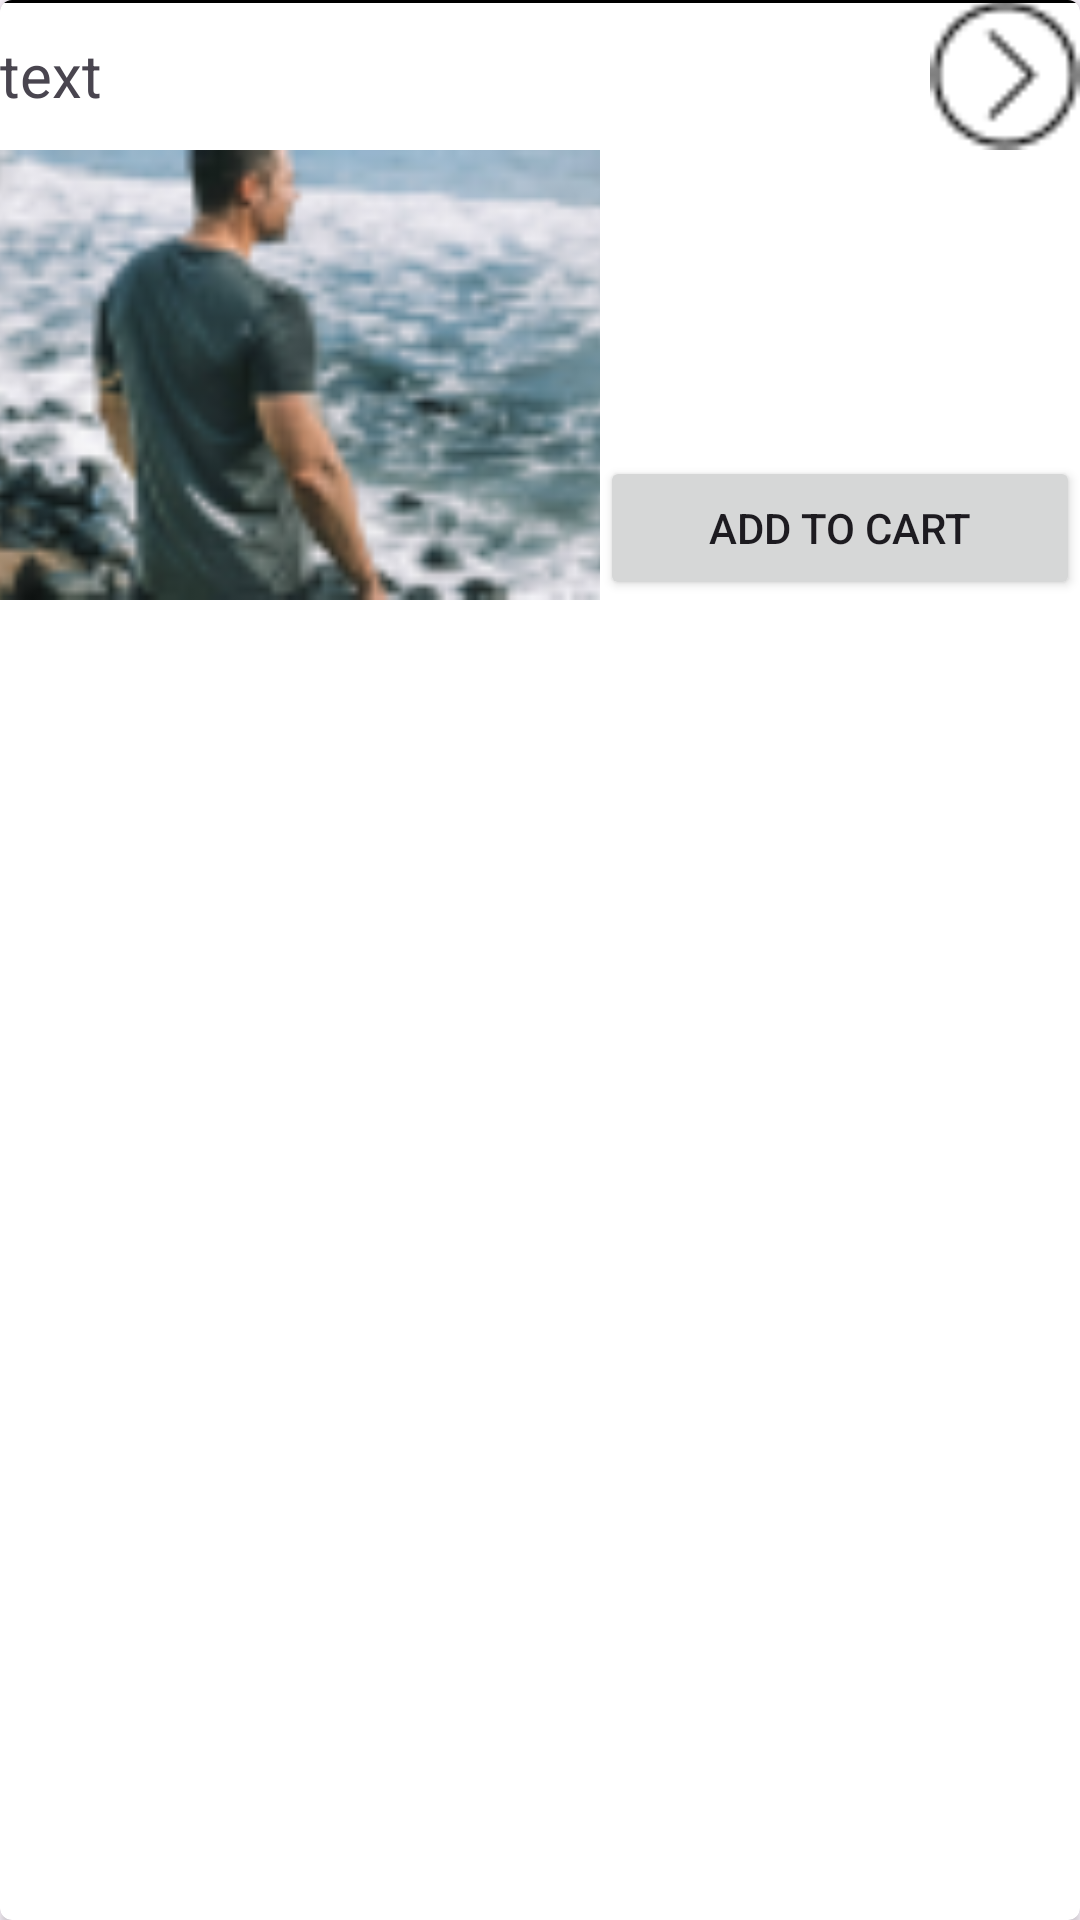

Where icons sit on this 1080 x 1920 app screen, as bbox=(x1, y1, x2, y2):
right arrow: bbox=(930, 0, 1080, 150)
